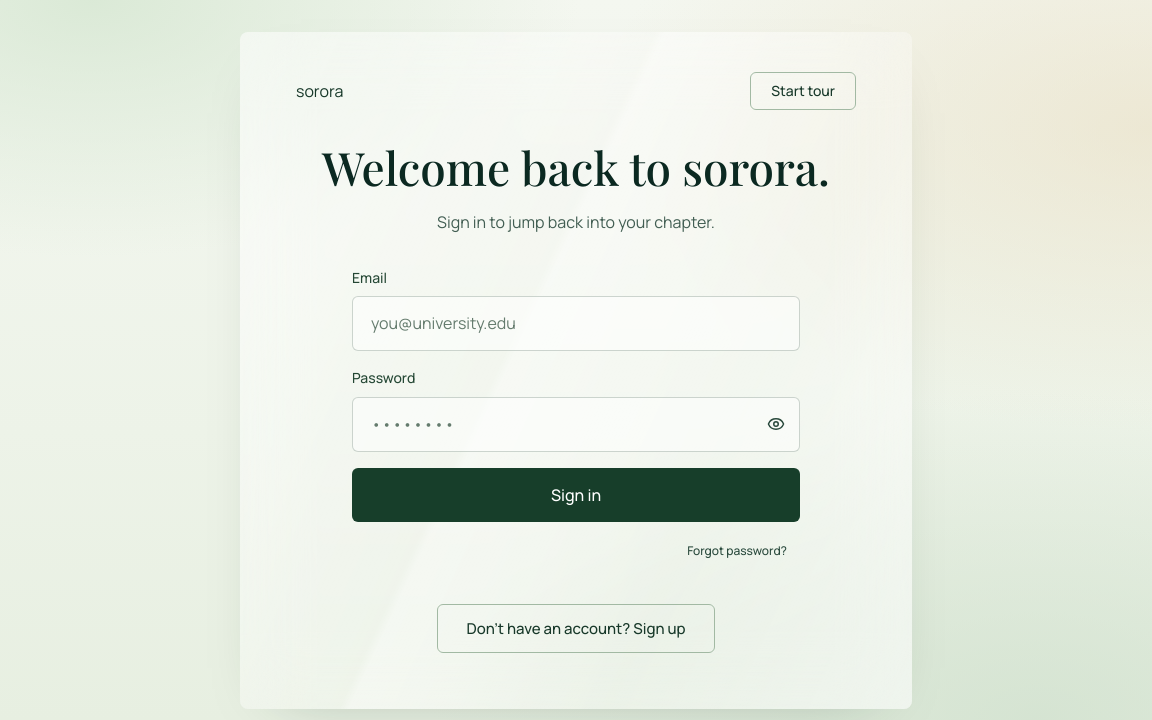
Test case: password reset network failure releases the form without a false sent message
Click the button "Forgot password?". click: {"x": 737, "y": 551}
box: x1=674 y1=538 x2=800 y2=564
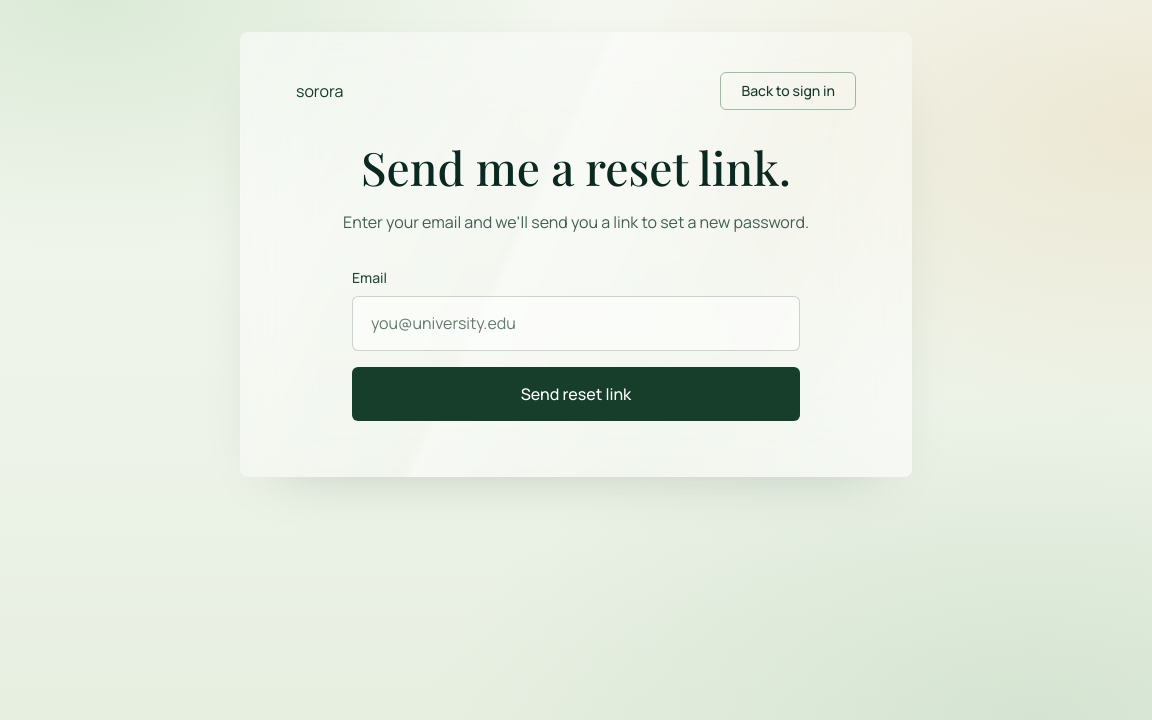
Type "test@example.com" into the field labelled "Email". click: {"x": 576, "y": 324}
box: x1=352 y1=296 x2=800 y2=351
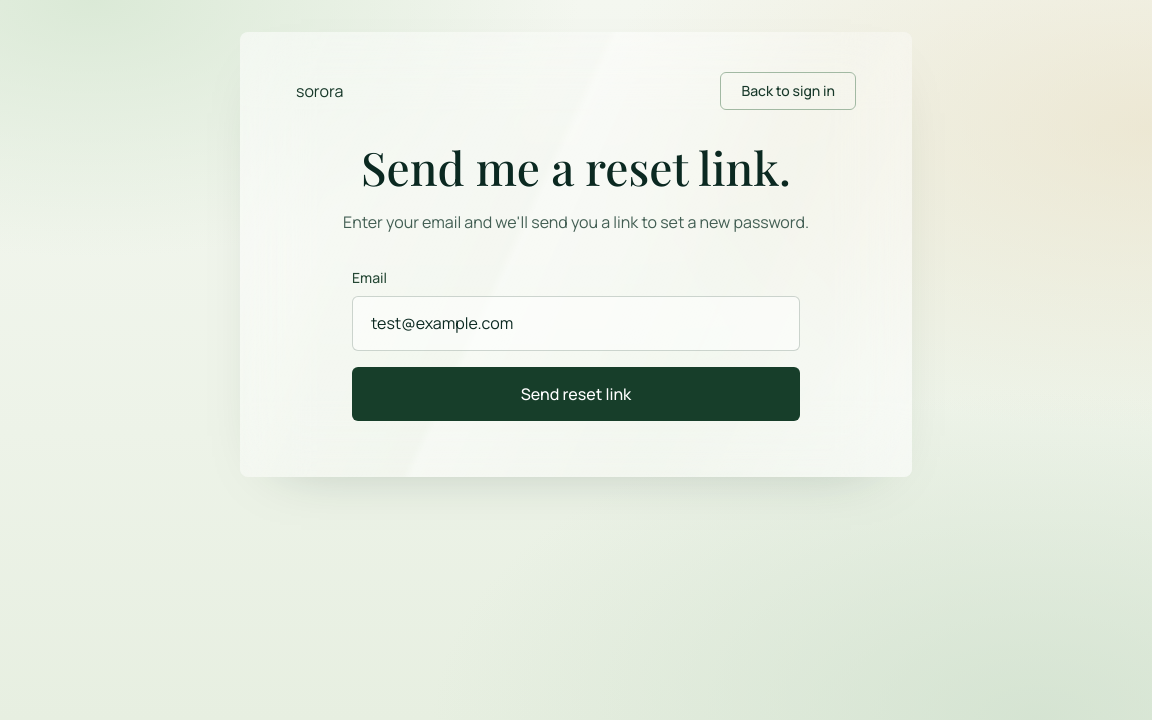
Click the button "Send reset link". click: {"x": 576, "y": 394}
box: x1=352 y1=367 x2=800 y2=421
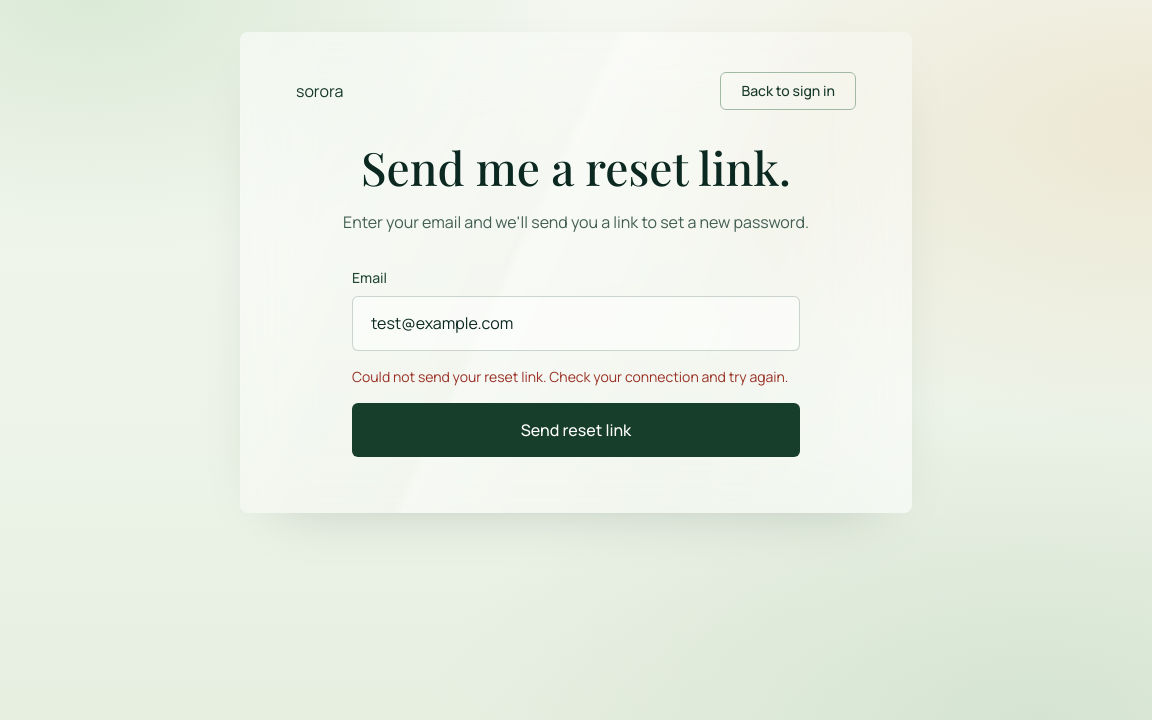
Expected: the button "Send reset link" is enabled, x1=352 y1=403 x2=800 y2=457
Expected: the text "Could not send your reset link" is shown, x1=352 y1=367 x2=788 y2=386
